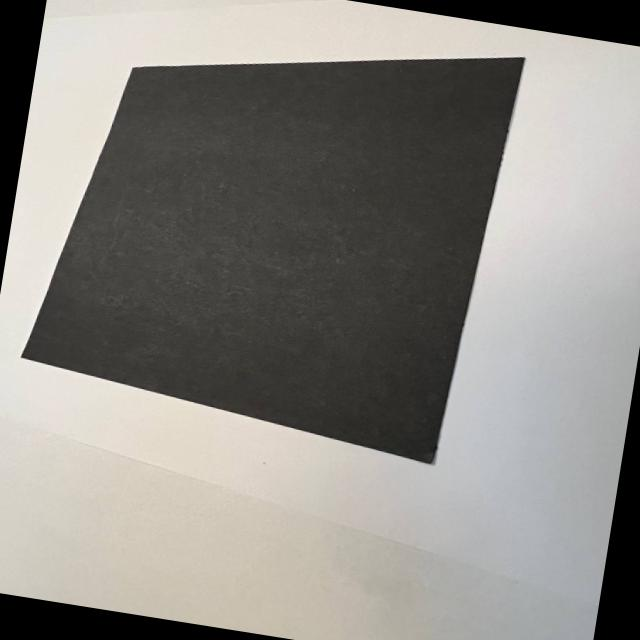Box: (23, 58, 523, 462)
